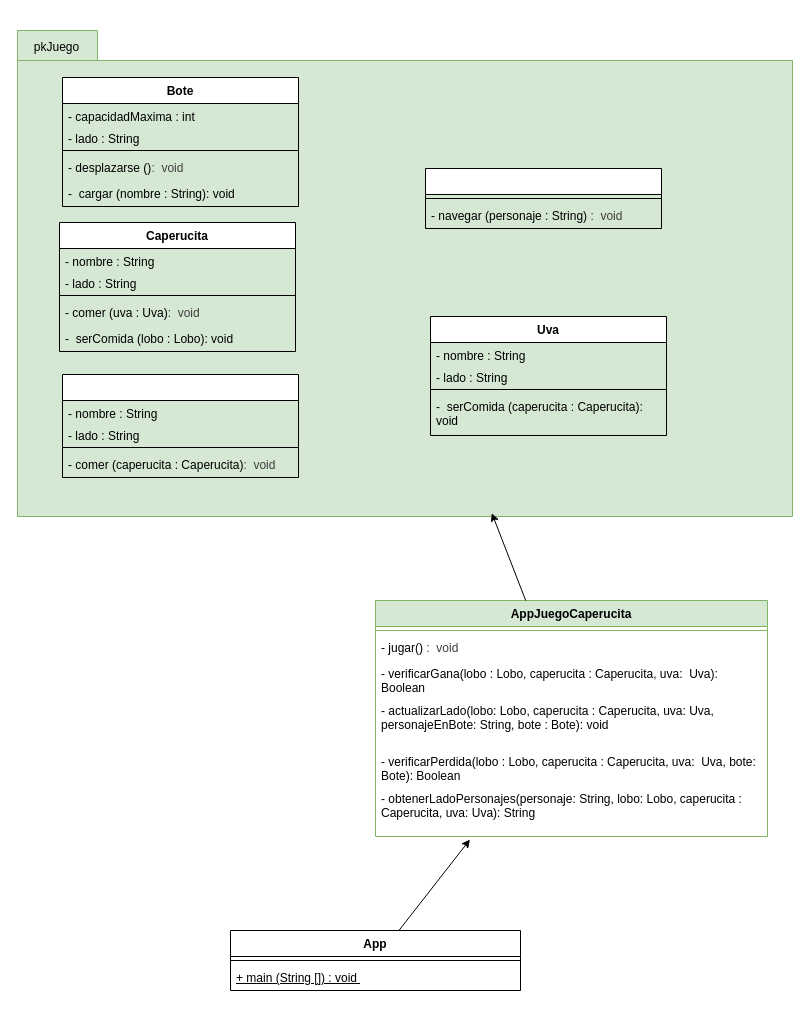
This 810x1010 diagram has some shape labels left out. The shapes that lost their labels are listed below. From the top down, each one's box as (x1, y1, x2, y2) in pixels, then its label:
(424, 168, 662, 228): Observador
(62, 374, 298, 478): Lobo
